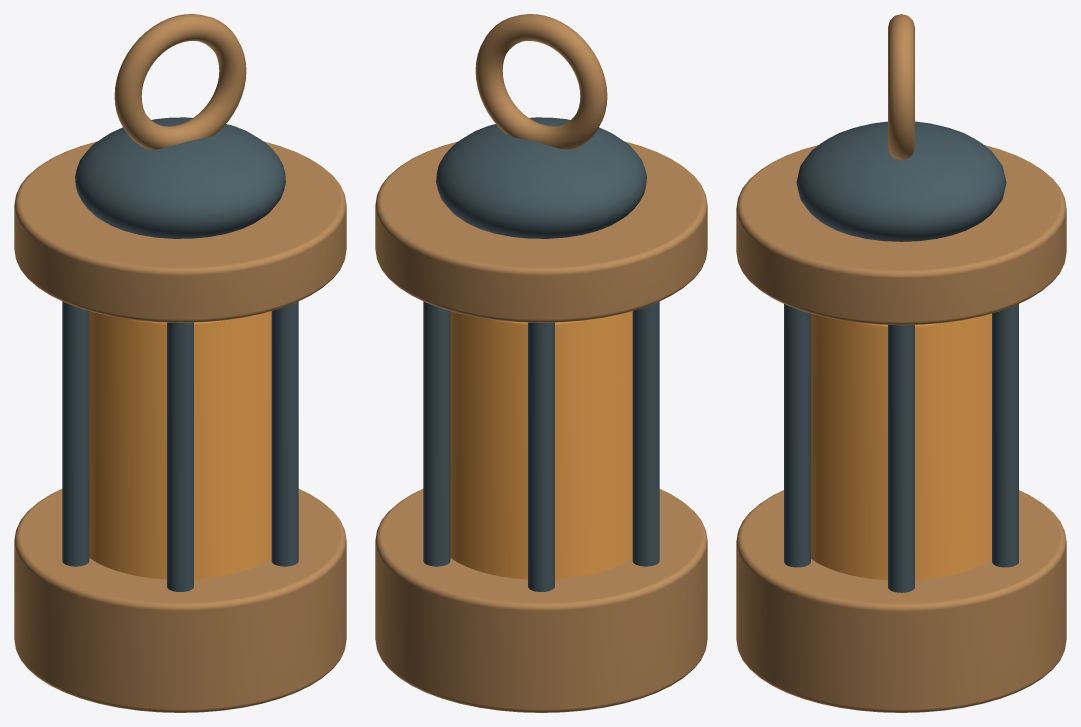
File: Lantern.fbx
The picture shows the model from 3 angles, left to right: view 1: azimuth 30°, elevation 25°; view 2: azimuth 150°, elevation 25°; view 3: azimuth 270°, elevation 25°; orthographic projection.
Visible parts, largest first — view 1: Lantern; view 2: Lantern; view 3: Lantern.
Boxes of the visible parts, x1=… form: Lantern: x1=14, y1=14, x2=346, y2=712; Lantern: x1=375, y1=14, x2=707, y2=712; Lantern: x1=736, y1=14, x2=1066, y2=712.
Size of the model in its own units: 44 by 44 by 91.8.
